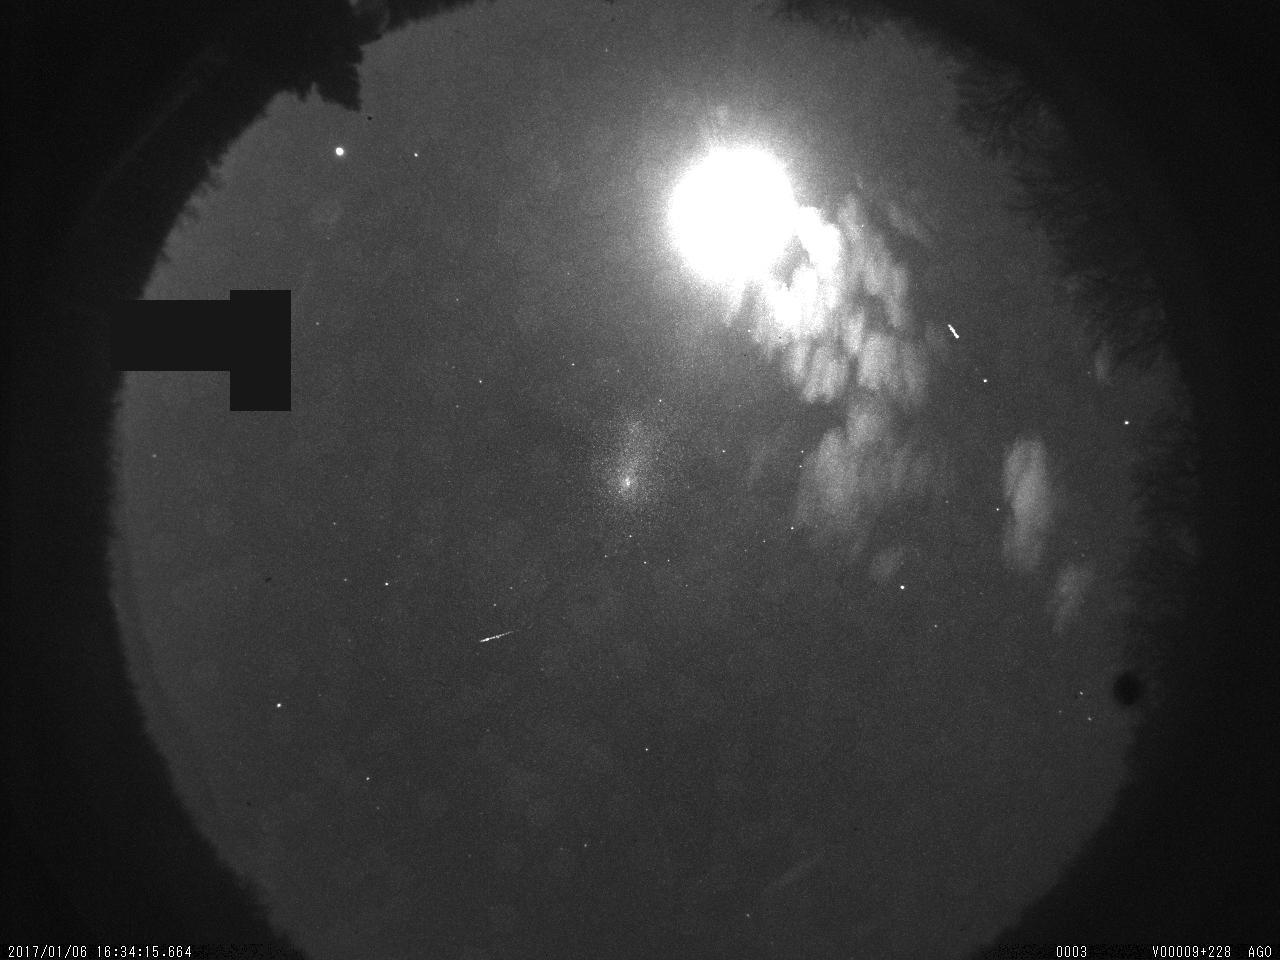meteor: (472, 623, 527, 654)
